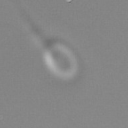normal: (13, 1, 53, 48)
